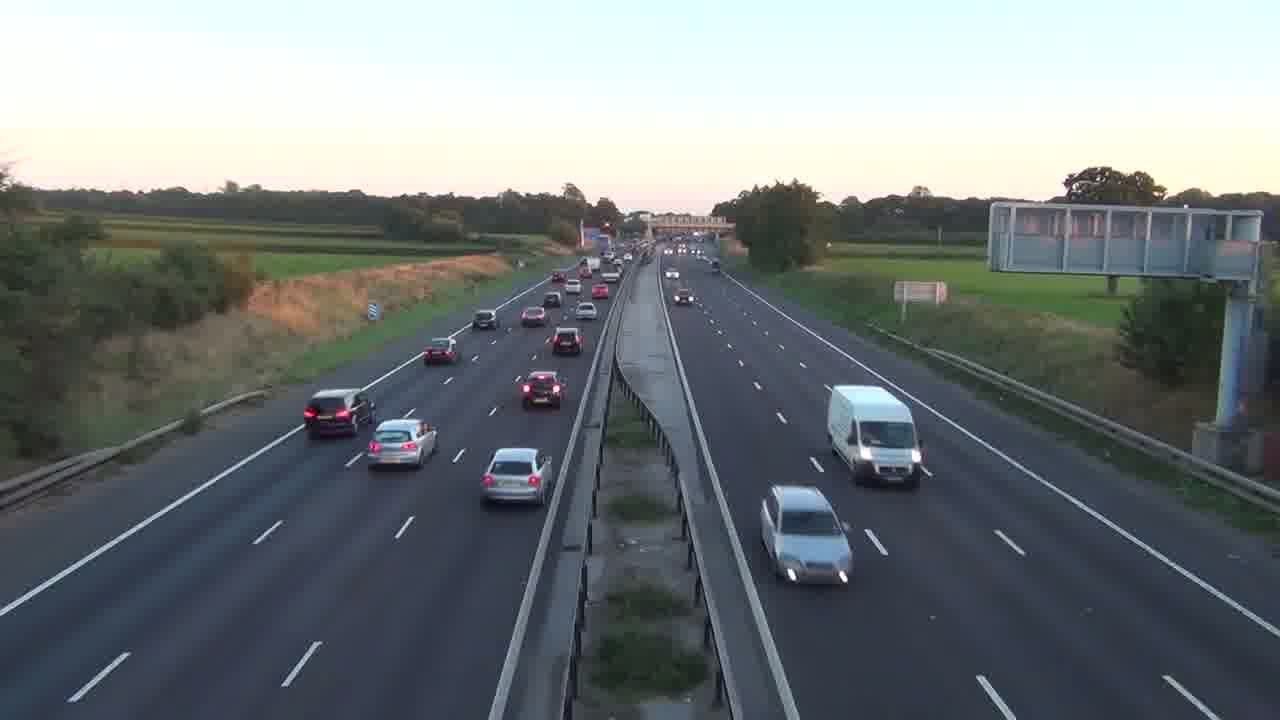car: (759, 483, 854, 586), (479, 447, 552, 506), (303, 389, 359, 439), (520, 369, 565, 407), (422, 340, 458, 366), (551, 327, 583, 356), (520, 305, 547, 327)
truck: (826, 383, 931, 488)
